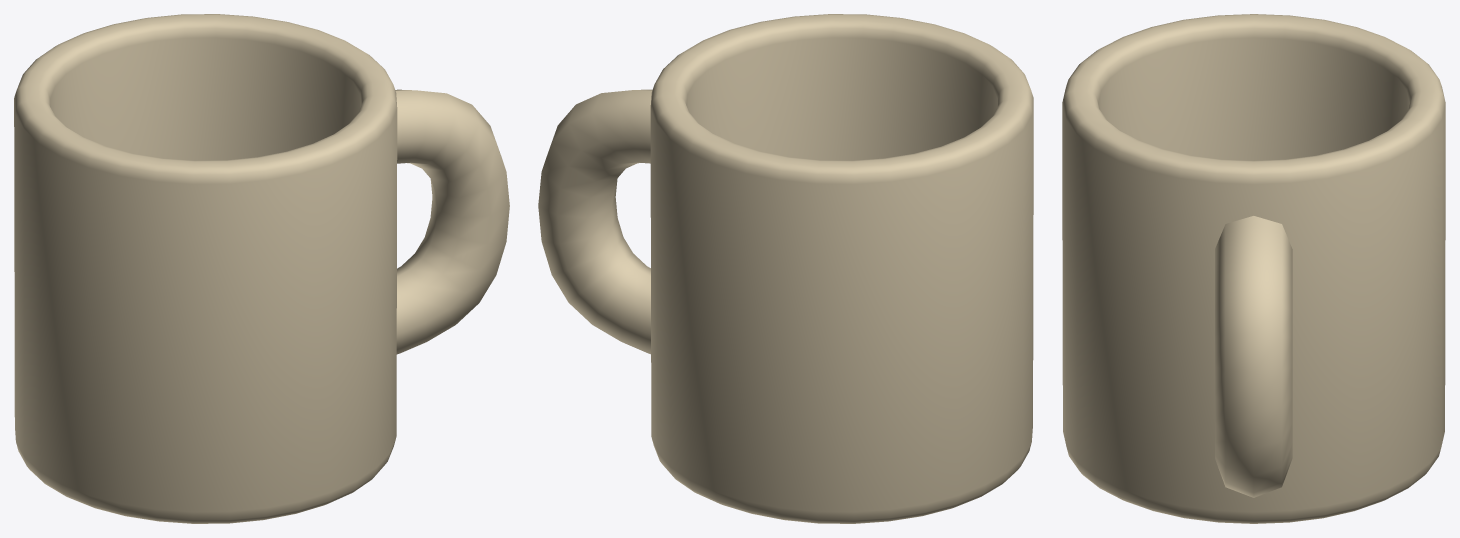
Rendered from SM_coffee_mug_white.glb.
The picture shows the model from 3 angles, left to right: view 1: azimuth 30°, elevation 25°; view 2: azimuth 150°, elevation 25°; view 3: azimuth 270°, elevation 25°; orthographic projection.
Parts seen in each view (by area): view 1: SM_coffee_mug_white; view 2: SM_coffee_mug_white; view 3: SM_coffee_mug_white.
Part boxes in pixels (x1,y1,x2,y2): SM_coffee_mug_white: (14, 14, 509, 523); SM_coffee_mug_white: (538, 14, 1033, 523); SM_coffee_mug_white: (1062, 14, 1445, 523).
Bounding box in the file's own units: 0.2716 × 0.2002 × 0.194.
Materials: 1 (1 with a texture image).
